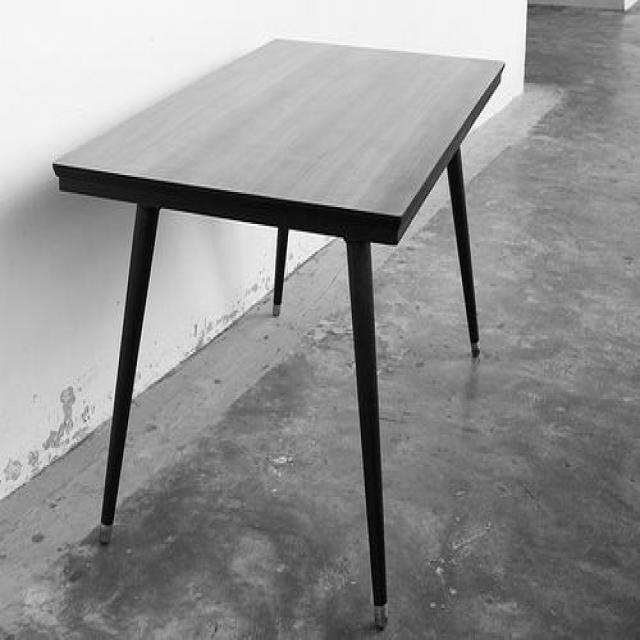table: (51, 39, 506, 628)
